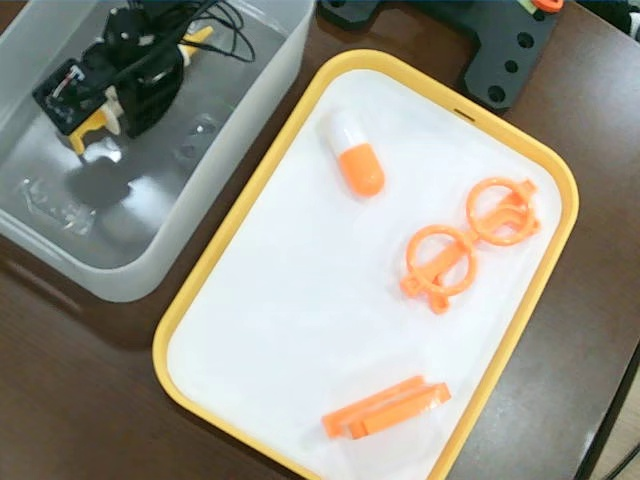pill: (317, 110, 388, 199)
